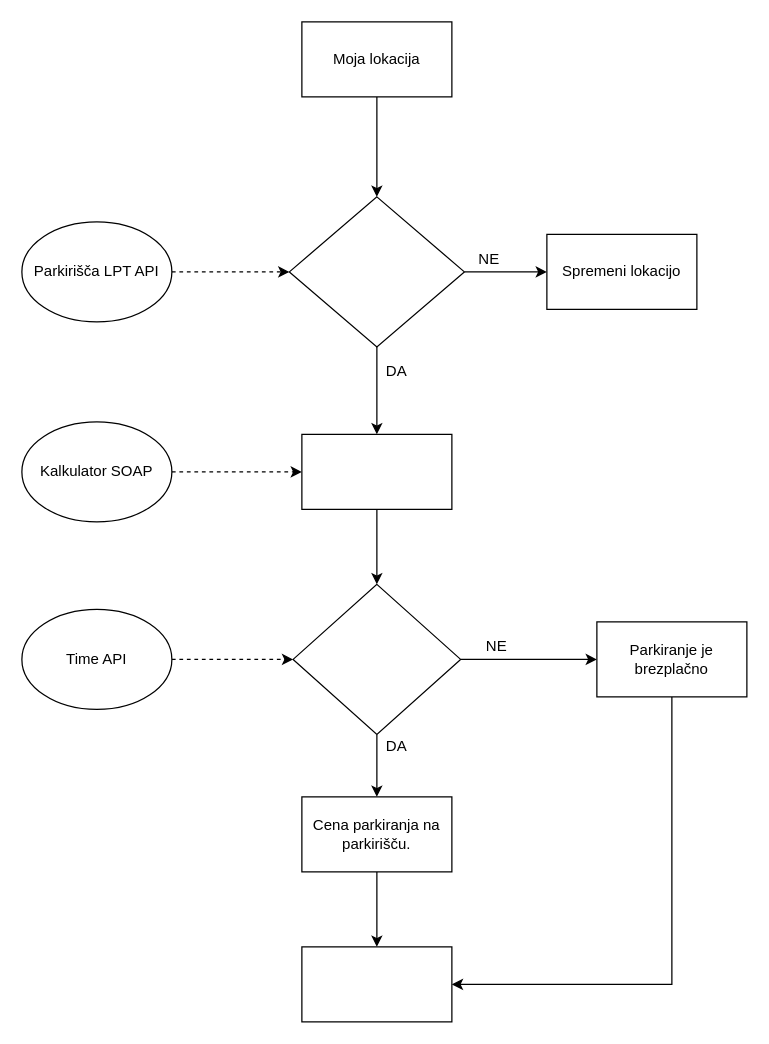
Image size: 769x1044. Some labels were removed from this diagram. The centre of each missing label's shape, as x and y in pixels:
"Ali je parkirišče v delovnem času? (med 7-19h)" belongs at (x=376, y=658).
"Ali so kje blizu prakirišča?" belongs at (x=376, y=271).
"Izračunaj oddaljenosti parkirišč" belongs at (x=376, y=471).
"Predlagaj 5 najbližjih parkirišč s prostimi mesti" belongs at (x=376, y=984).
